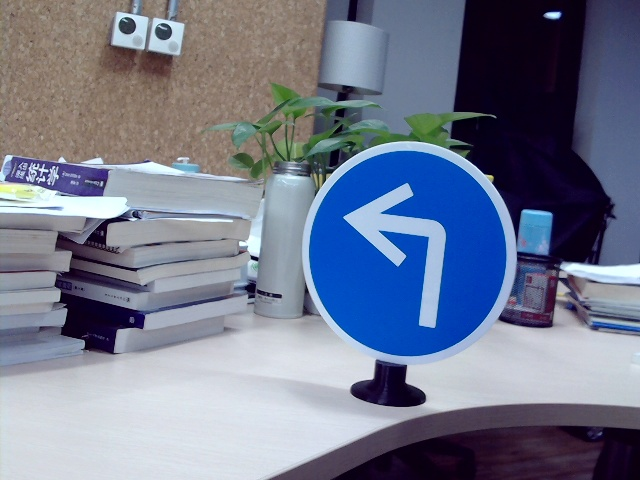turn_left: (343, 178, 462, 331)
